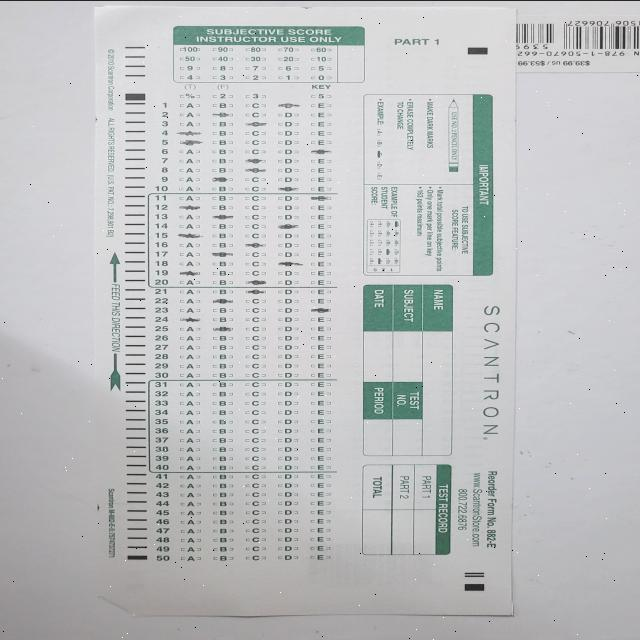scantron: (94, 4, 518, 615)
